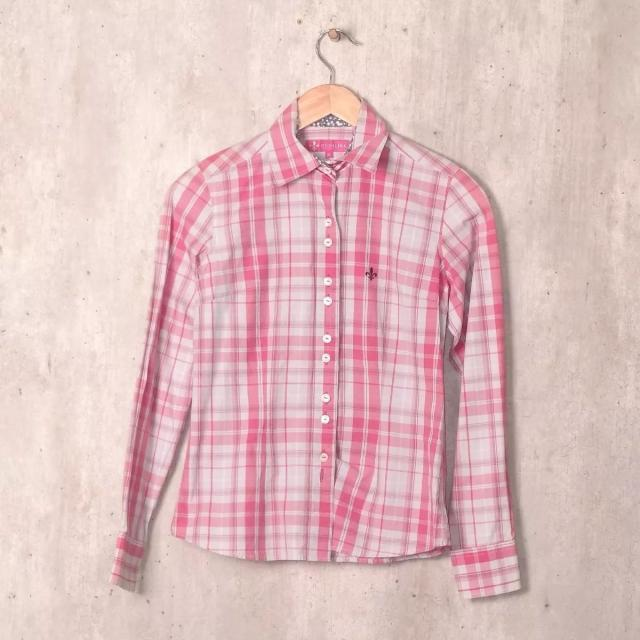long sleeve shirt: (107, 93, 524, 603)
